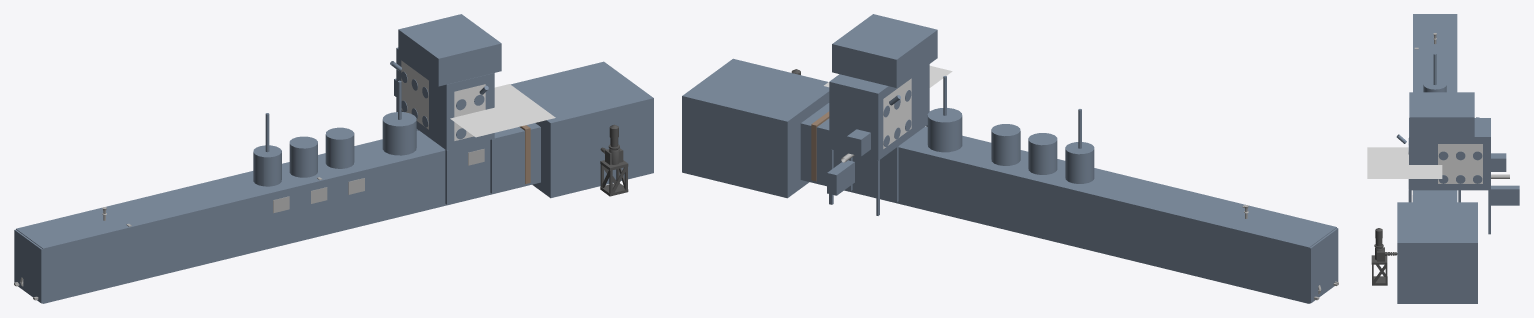
The model's file is PowderStorage3.fbx.
3 renders of one model, left to right at view 1: azimuth 30°, elevation 25°; view 2: azimuth 150°, elevation 25°; view 3: azimuth 270°, elevation 25°, orthographic. The views are drawn at different scales.
Visible parts, largest first — view 1: Tunnel, SamplingUnitCor, Plane; view 2: Tunnel, SamplingUnitCor, Door; view 3: Tunnel, SamplingUnitCor, Plane, Grabber_01.
Part boxes in pixels (x1=…): Tunnel: x1=14, y1=61, x2=653, y2=303; SamplingUnitCor: x1=390, y1=14, x2=501, y2=204; Plane: x1=450, y1=84, x2=555, y2=137; Tunnel: x1=682, y1=58, x2=1338, y2=303; SamplingUnitCor: x1=827, y1=14, x2=937, y2=215; Door: x1=811, y1=111, x2=829, y2=181; Tunnel: x1=1371, y1=14, x2=1477, y2=303; SamplingUnitCor: x1=1396, y1=92, x2=1519, y2=234; Plane: x1=1367, y1=147, x2=1442, y2=178; Grabber_01: x1=1433, y1=53, x2=1436, y2=84.
Bounding box in the file's own units: 1508 × 380 × 405.
